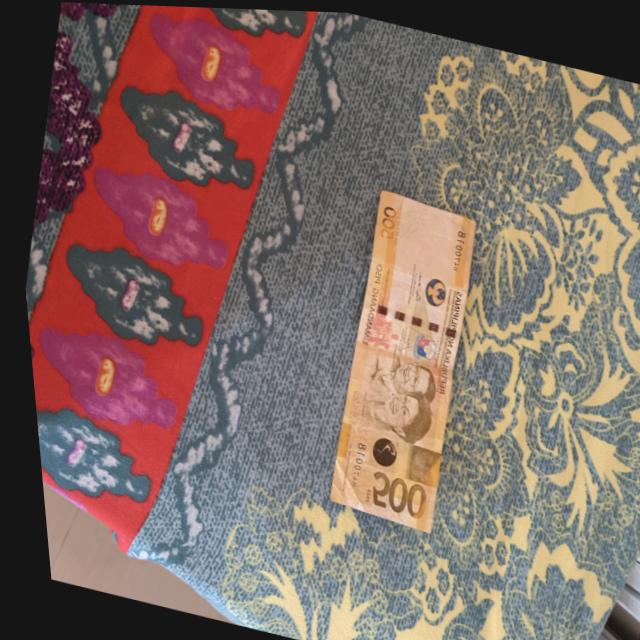concealed_value: (396, 441, 434, 483)
optically_variable_device: (359, 431, 393, 467)
see_through_mark: (380, 198, 413, 261)
watermark: (381, 195, 460, 279)
